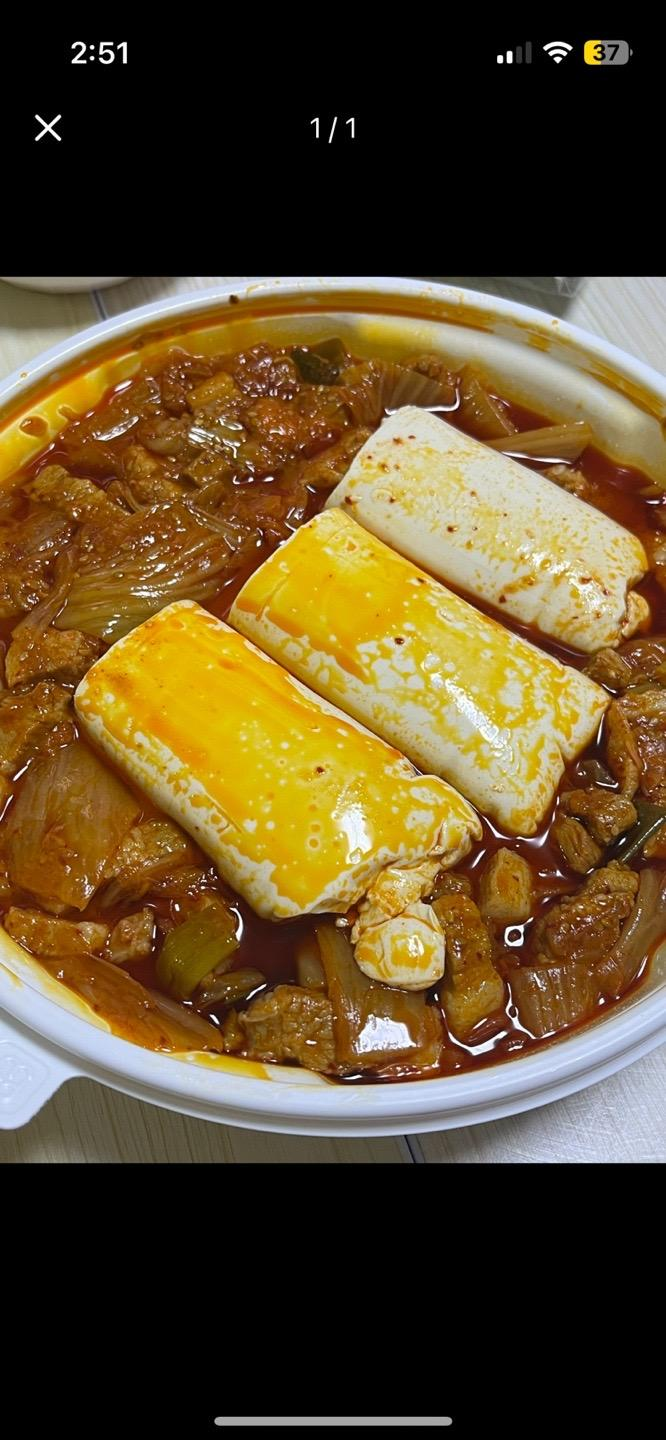Lunch Box: (0, 278, 665, 1135)
